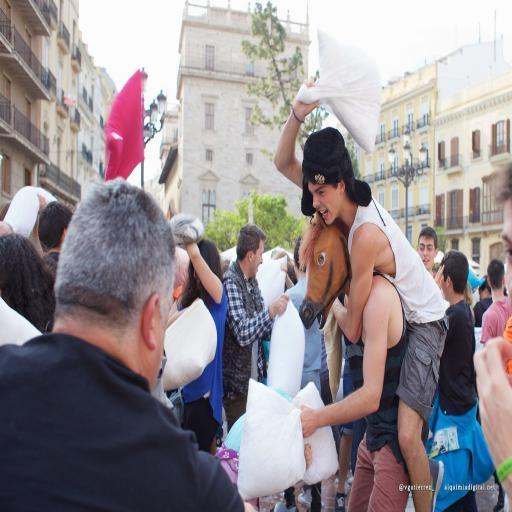horse: (300, 214, 351, 334)
